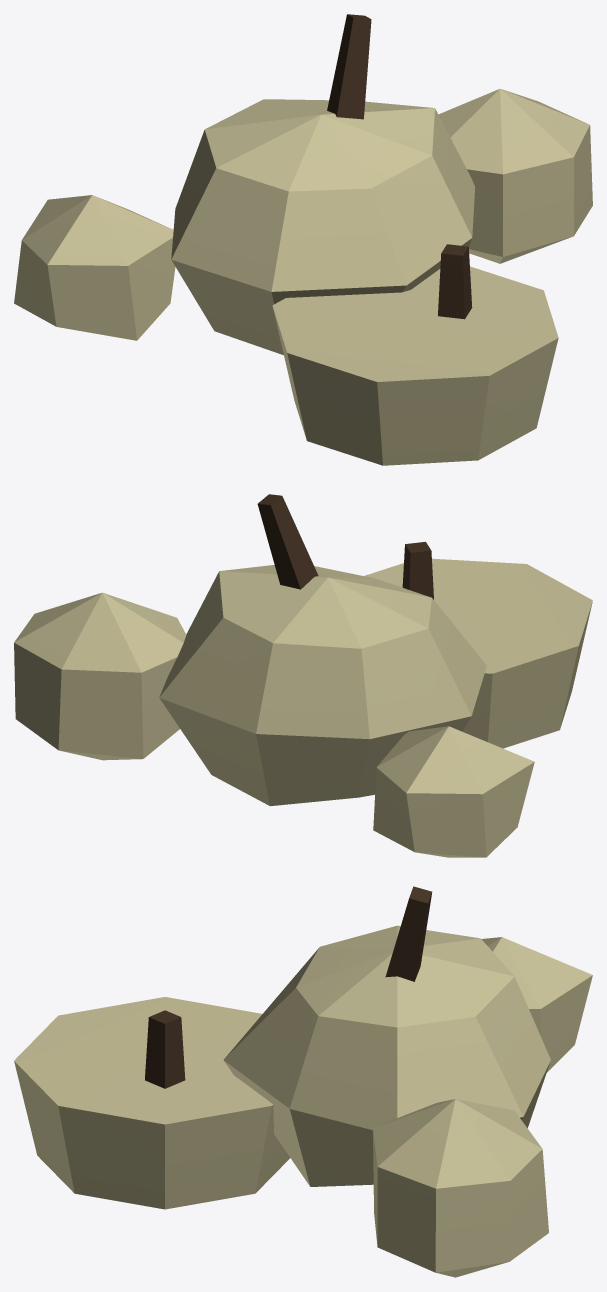
File: caral_gourd_lod0.glb
The picture shows the model from 3 angles, top to bottom: view 1: azimuth 30°, elevation 25°; view 2: azimuth 150°, elevation 25°; view 3: azimuth 270°, elevation 25°; orthographic projection. The views are drawn at different scales.
Parts seen in each view (by area): view 1: GEO-Props_gourd_LOD0; view 2: GEO-Props_gourd_LOD0; view 3: GEO-Props_gourd_LOD0.
Part boxes in pixels (x1=…): GEO-Props_gourd_LOD0: x1=14, y1=14, x2=592, y2=465; GEO-Props_gourd_LOD0: x1=14, y1=494, x2=592, y2=857; GEO-Props_gourd_LOD0: x1=14, y1=886, x2=592, y2=1277.
Bounding box in the file's own units: 0.5423 × 0.2929 × 0.4982.
